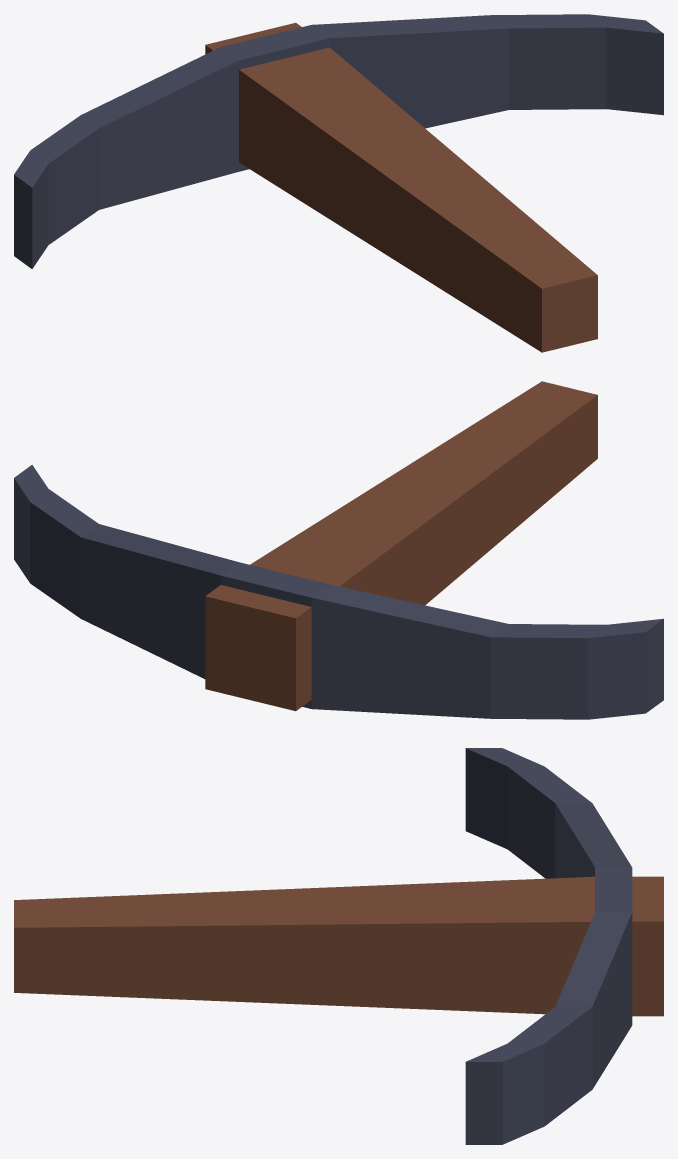
Rendered from Crossbow.fbx.
The picture shows the model from 3 angles, top to bottom: view 1: azimuth 30°, elevation 25°; view 2: azimuth 150°, elevation 25°; view 3: azimuth 270°, elevation 25°; orthographic projection.
Visible parts, largest first — view 1: Crossbow; view 2: Crossbow; view 3: Crossbow.
Part boxes in pixels (box(x1,y1,x2,y2)): Crossbow: box(14, 14, 663, 352); Crossbow: box(14, 381, 663, 719); Crossbow: box(14, 748, 663, 1144).
Bounding box in the file's own units: 49.58 × 8.36 × 43.41.
